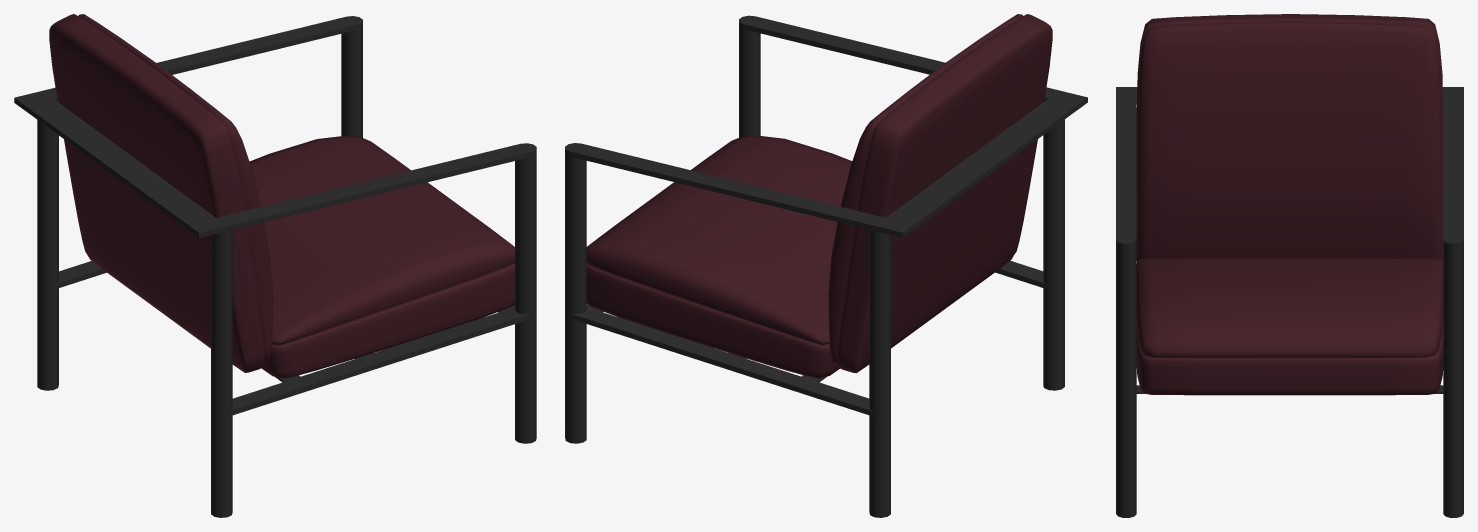
Rendered from MSH_Lobby2_Sillon.fbx.
3 renders of one model, left to right at view 1: azimuth 30°, elevation 25°; view 2: azimuth 150°, elevation 25°; view 3: azimuth 270°, elevation 25°, orthographic. The views are drawn at different scales.
Parts seen in each view (by area): view 1: MSH_Lobby2_Sillon; view 2: MSH_Lobby2_Sillon; view 3: MSH_Lobby2_Sillon.
Boxes of the visible parts, box(x1,y1,x2,y2) form: MSH_Lobby2_Sillon: box(14, 14, 536, 517); MSH_Lobby2_Sillon: box(565, 14, 1087, 517); MSH_Lobby2_Sillon: box(1116, 14, 1463, 517).
Size of the model in its own units: 86.99 by 92.32 by 80.7.
